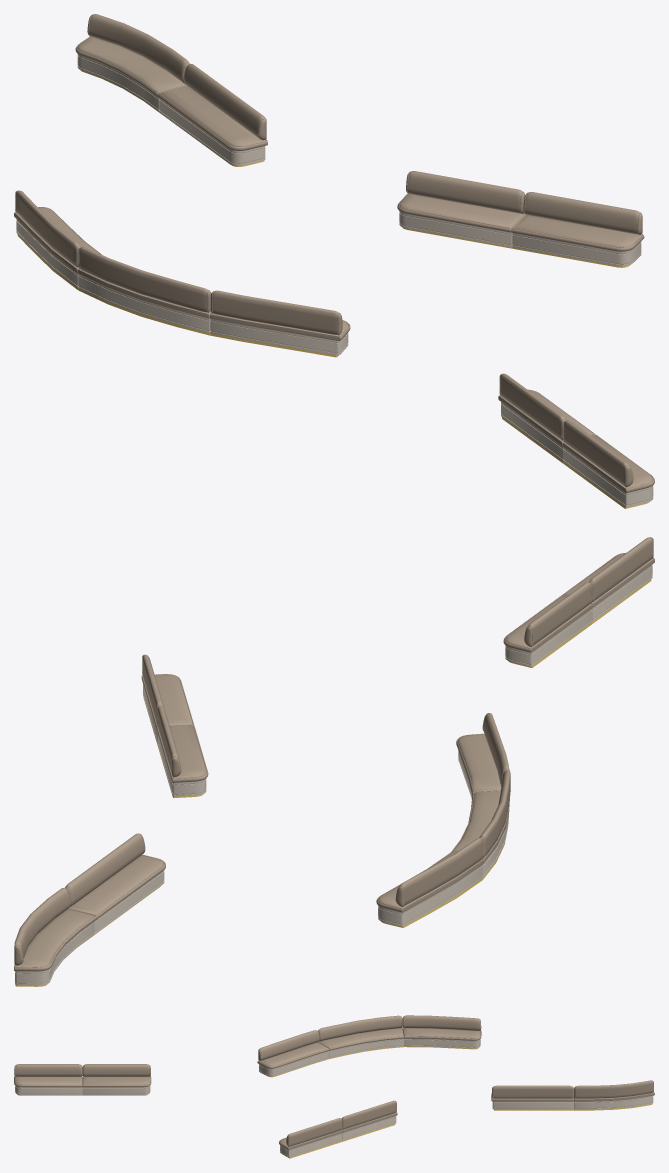
3 renders of one model, top to bottom at view 1: azimuth 30°, elevation 25°; view 2: azimuth 150°, elevation 25°; view 3: azimuth 270°, elevation 25°, orthographic. The views are drawn at different scales.
Visible parts, largest first — view 1: SM_H_Building_FutureTech_Dock_06a_InterWall_02a; view 2: SM_H_Building_FutureTech_Dock_06a_InterWall_02a; view 3: SM_H_Building_FutureTech_Dock_06a_InterWall_02a.
Boxes of the visible parts, left/top/right/bottom form: SM_H_Building_FutureTech_Dock_06a_InterWall_02a: left=14, top=14, right=654, bottom=508; SM_H_Building_FutureTech_Dock_06a_InterWall_02a: left=14, top=537, right=654, bottom=986; SM_H_Building_FutureTech_Dock_06a_InterWall_02a: left=14, top=1015, right=654, bottom=1158.
Size of the model in its own units: 903 by 401 by 37.68.
